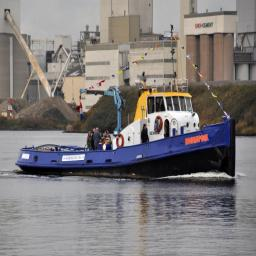tugboat: (15, 74, 238, 183)
